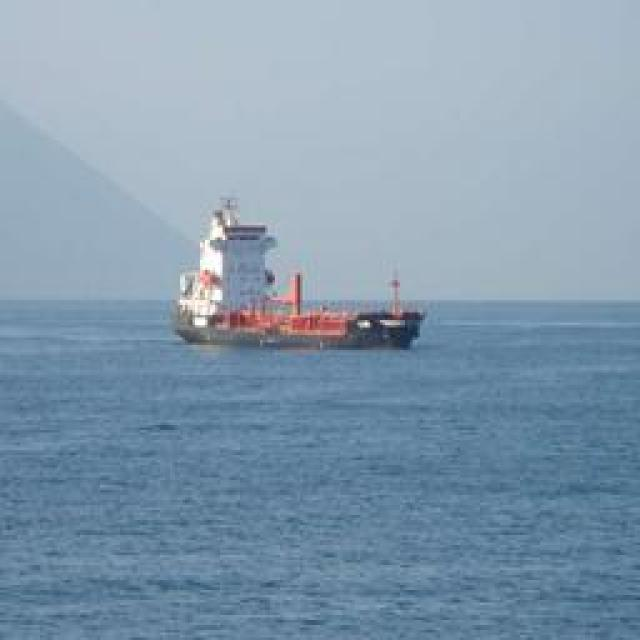ship2: (174, 198, 425, 353)
